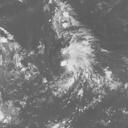cyclone: (58, 36, 98, 79)
